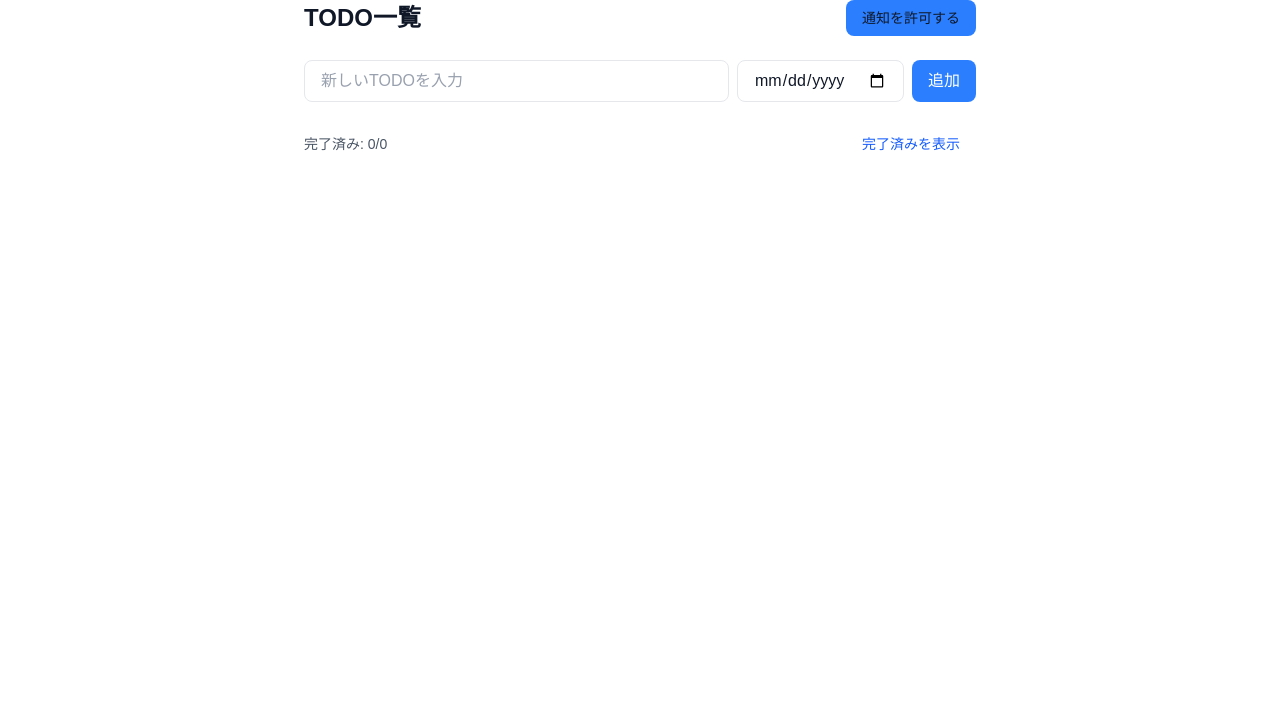
it: TodoList › deletes a todo
Type "テストTODO" into the field with placeholder "新しいTODOを入力" at x=516, y=81, box top-left (304, 60), bottom-right (729, 102)
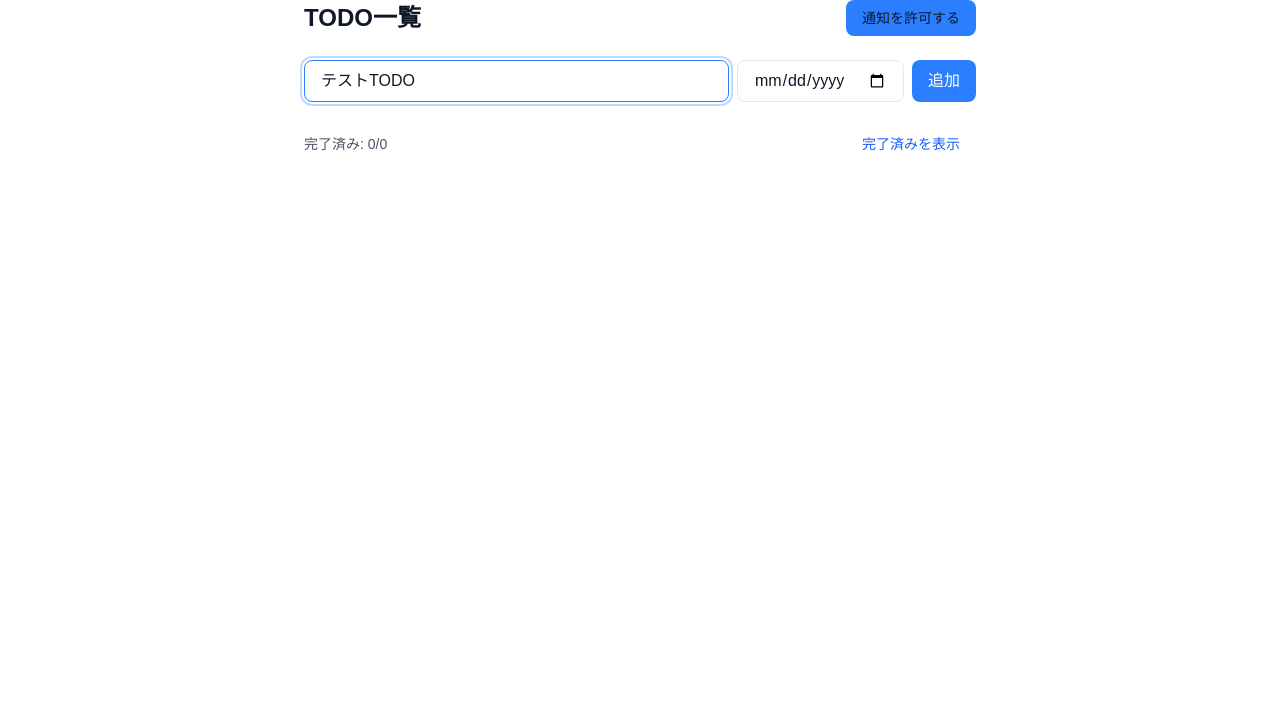
Click the button "追加" at x=944, y=81, box top-left (912, 60), bottom-right (976, 102)
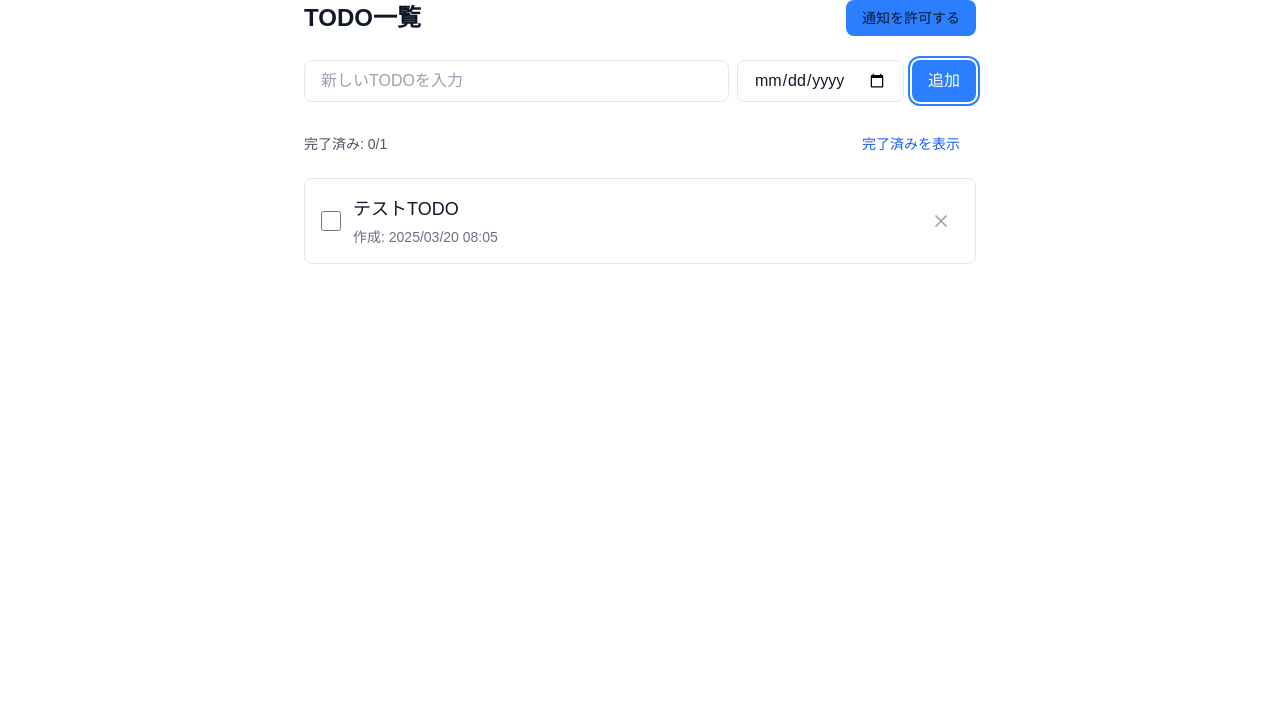
# 削除ボタンをクリック（SVGアイコンを含むボタン）
Click the 4th button at x=941, y=221, box top-left (923, 203), bottom-right (959, 239)
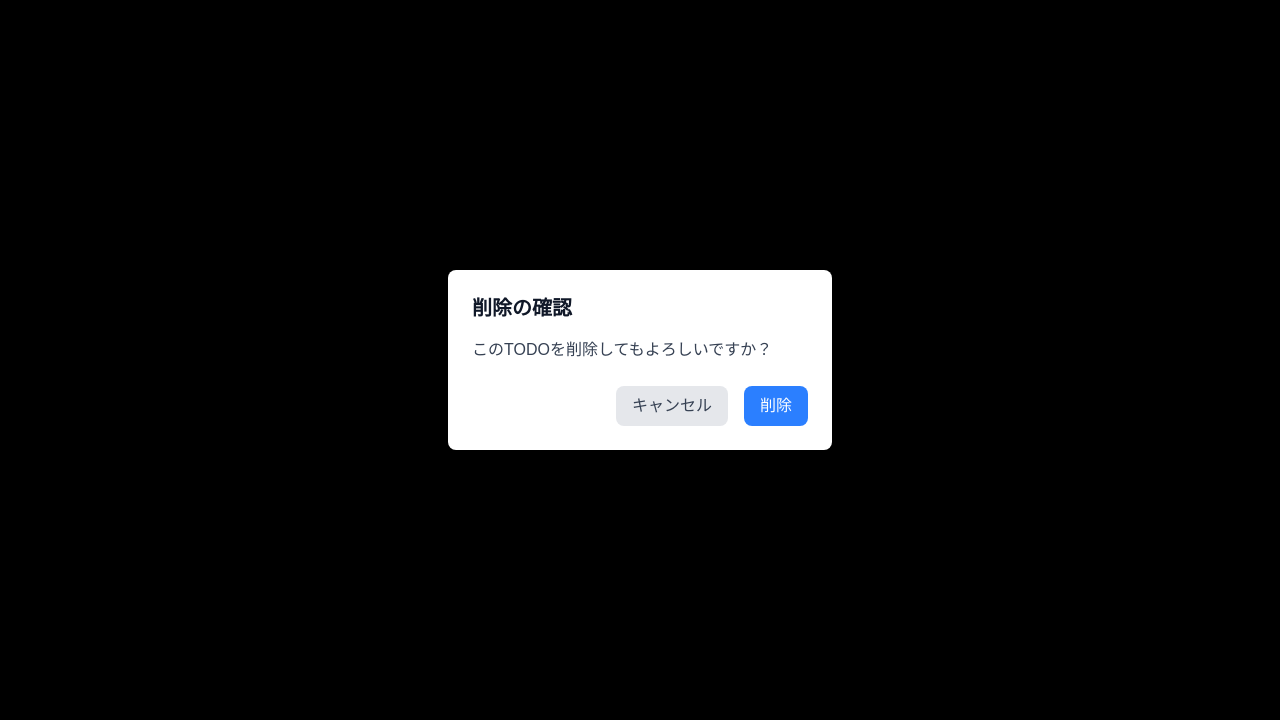
# 確認ダイアログで削除をクリック
Click the button "削除" at x=776, y=406, box top-left (744, 386), bottom-right (808, 426)
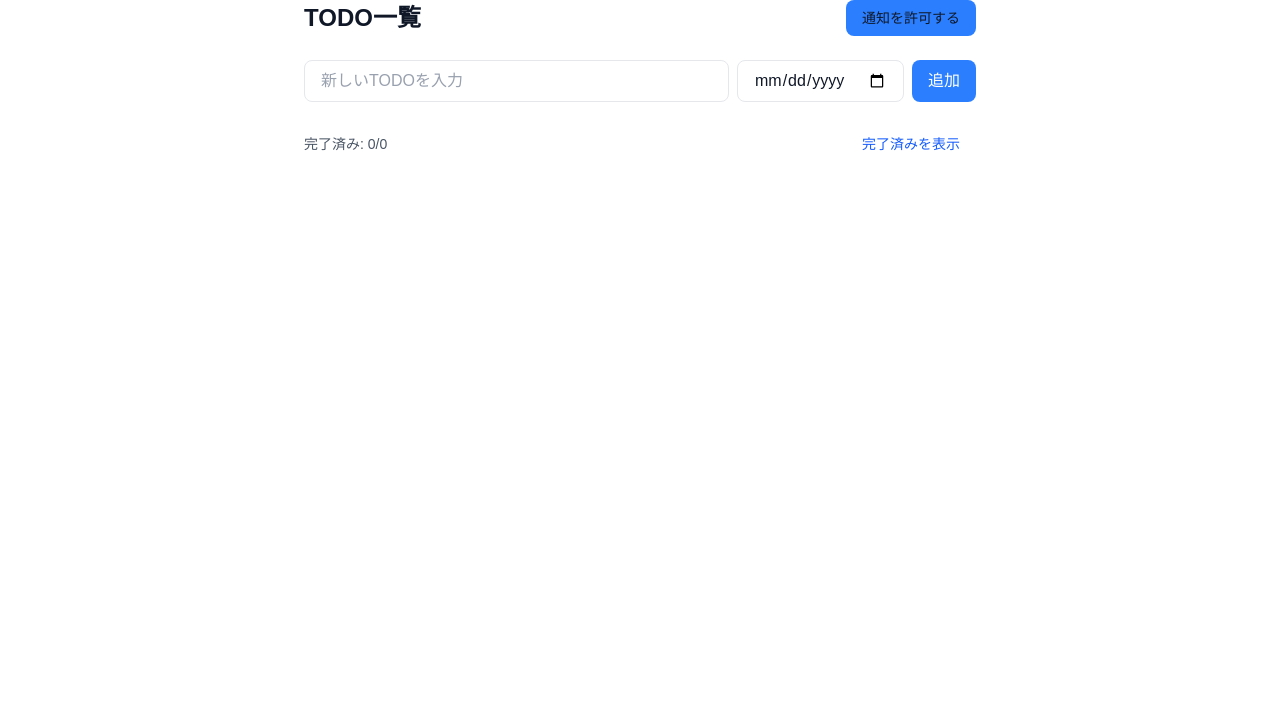
Now the heading "テストTODO" is gone
